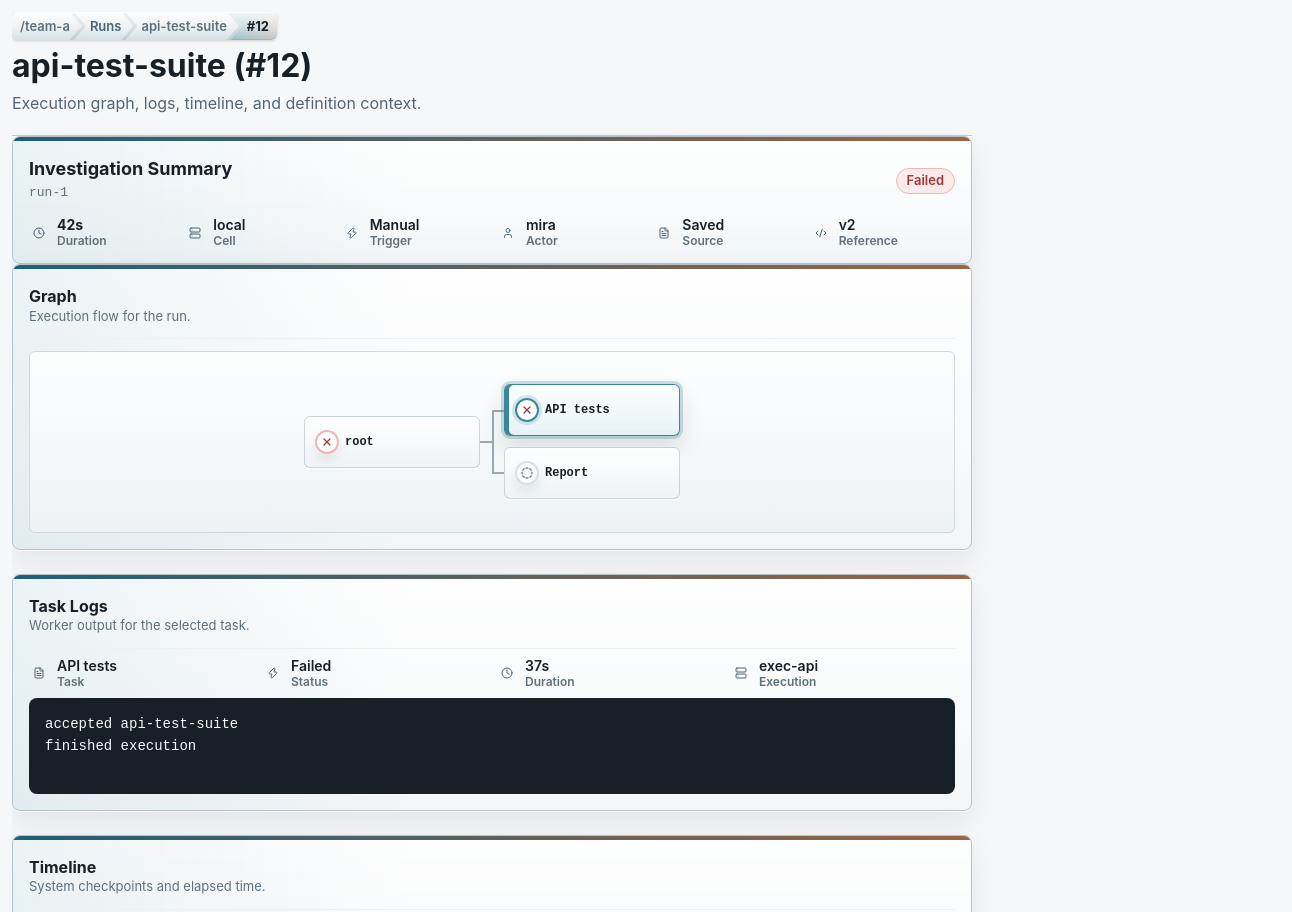
Test: RunDetailPage › renders and selects task execution contexts
Expected: the heading "Graph" is shown, top-left (29, 286), bottom-right (77, 306)
Expected: the text "Worker output for the selected task." is shown, top-left (29, 617), bottom-right (250, 633)
Step 1. Click the button "Report" → {"x": 592, "y": 473}, box top-left (504, 447), bottom-right (680, 499)
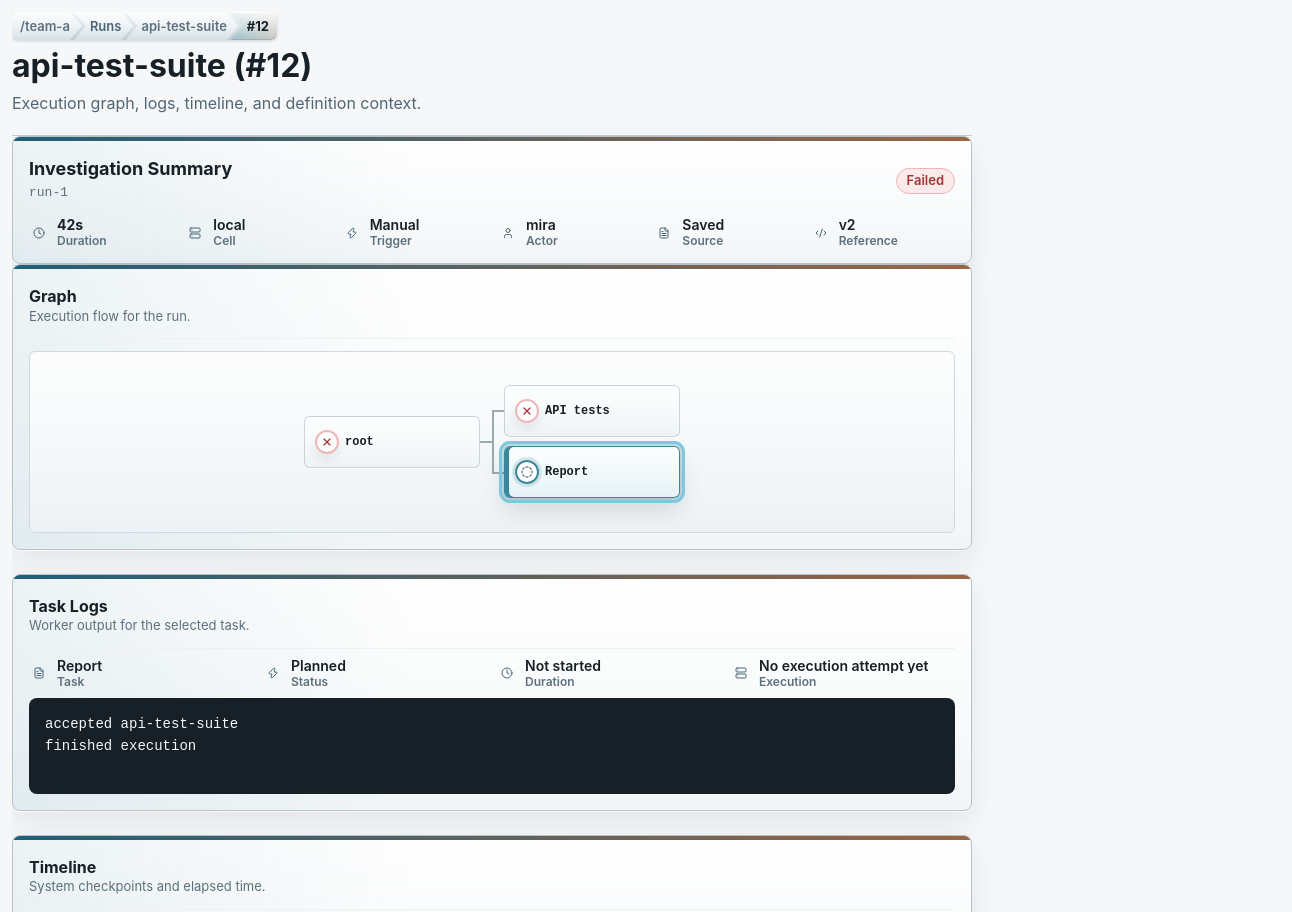
Expected: the 1st text "Report" is shown, top-left (545, 465), bottom-right (588, 479)
Expected: the text "No execution attempt yet" is shown, top-left (759, 659), bottom-right (928, 673)
